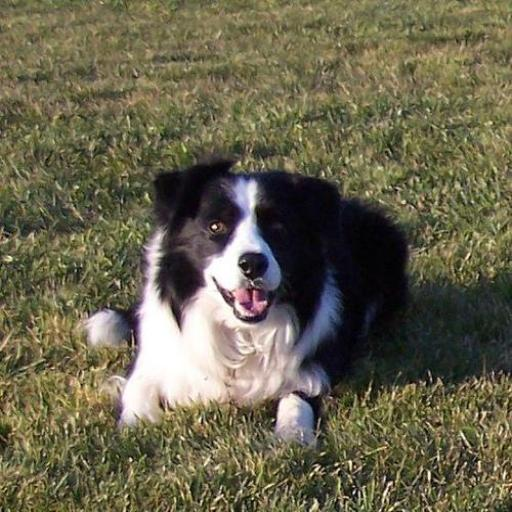dog_face: (150, 162, 328, 328)
